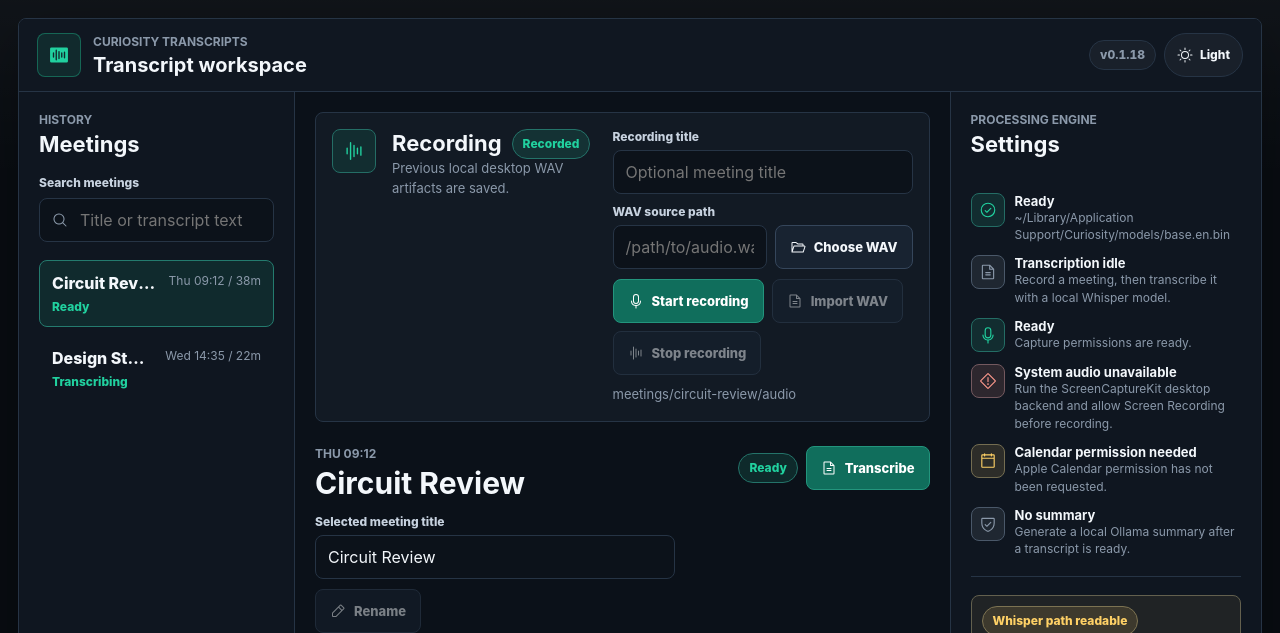
Scenario: desktop workspace shell › preserves the typed WAV path after a failed import
Type "/Users/adrian/imports/retry.wav" into the field labelled "WAV source path" at (690, 247), box [612,225,767,269]
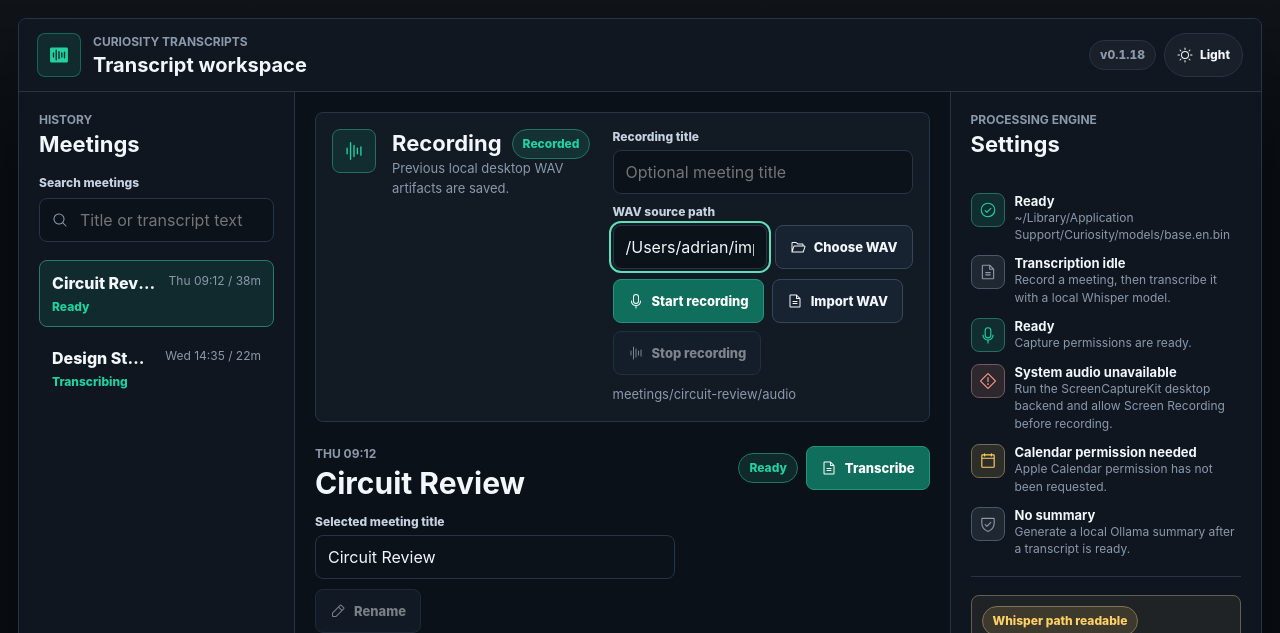
Click the button "Import WAV" at (837, 301), box [772,279,903,323]
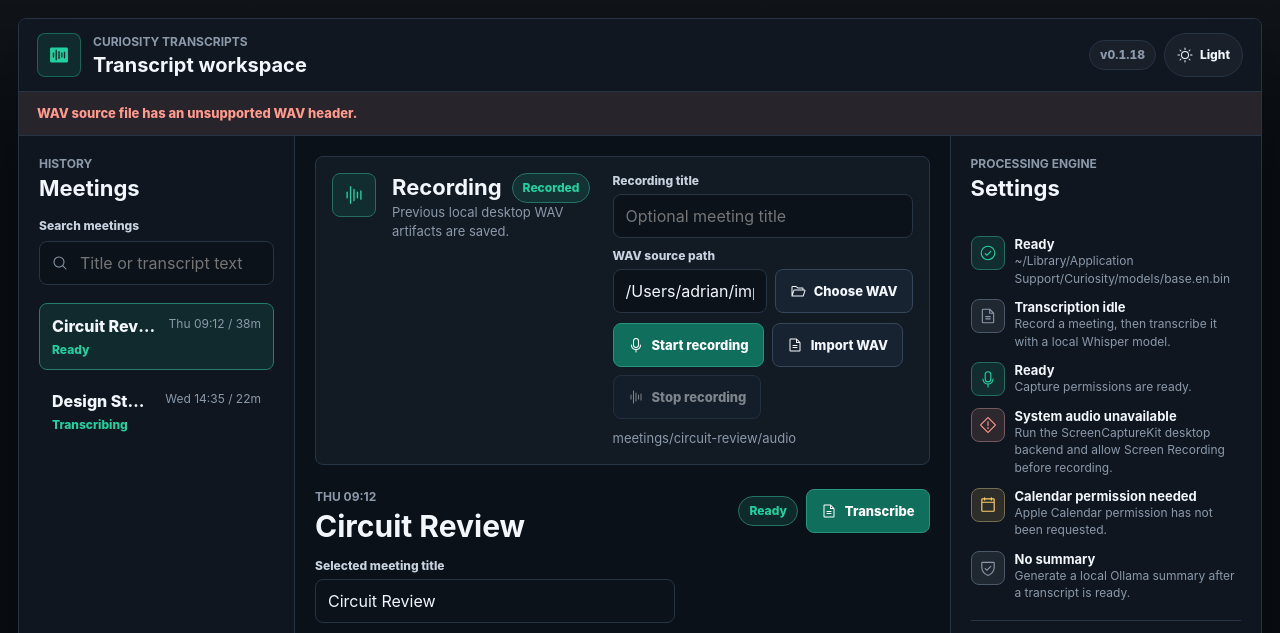
Expected: the message reads "WAV source file has an unsupported WAV header.", [37,105,357,121]
